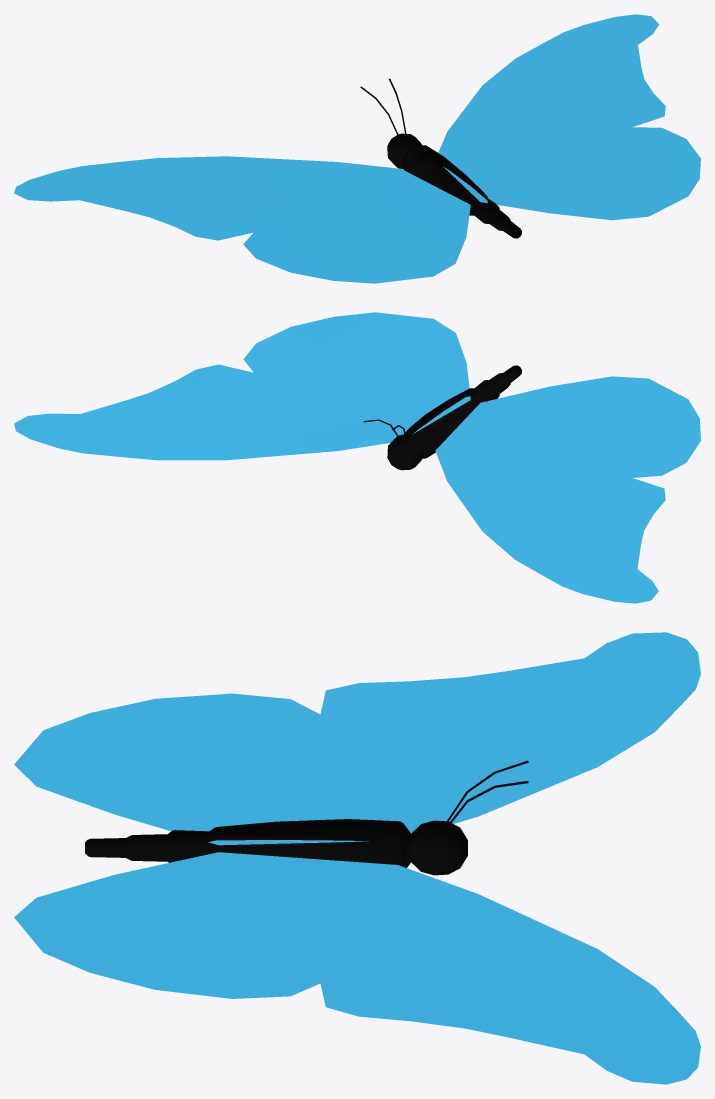
Rendered from butterfly01.glb.
The picture shows the model from 3 angles, top to bottom: view 1: azimuth 30°, elevation 25°; view 2: azimuth 150°, elevation 25°; view 3: azimuth 270°, elevation 25°; orthographic projection. The views are drawn at different scales.
Parts seen in each view (by area): view 1: Circle; view 2: Circle; view 3: Circle.
Boxes of the visible parts, x1=… form: Circle: x1=14, y1=14, x2=700, y2=283; Circle: x1=14, y1=312, x2=700, y2=603; Circle: x1=14, y1=632, x2=700, y2=1084.
Size of the model in its own units: 23.32 by 2.33 by 13.92.
